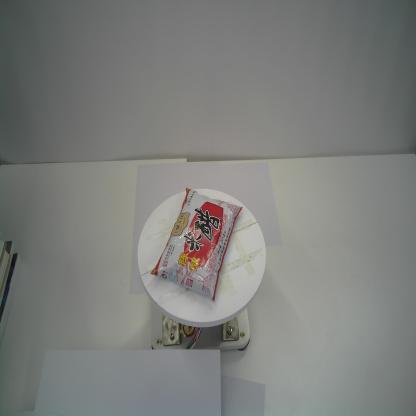Seasoner: (149, 186, 244, 306)
